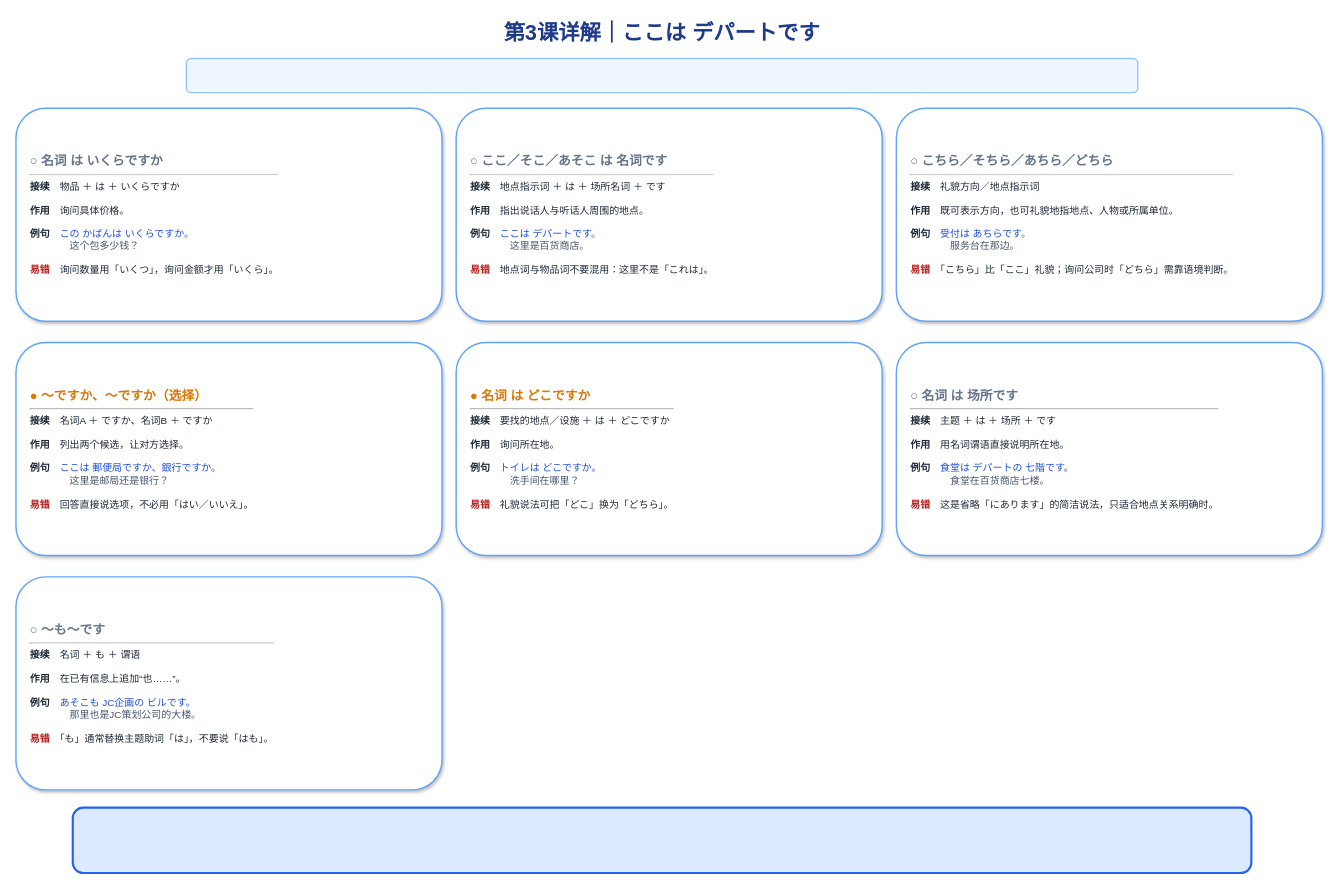
Image size: 1339x886. Some labels were removed from this diagram. Here are the shapes that lost their labels. From the top down, the centre of each, then its label:
At point 661,75: "本课目标：能询问地点、方向和价格，并用更礼貌的指示表达接待他人。".
At point 661,840: "本课结构关系 ここ／そこ／あそこ与これ／それ／あれ具有相同的こ・そ・あ距离体系。 最低掌握标准 能完成“在哪里、多少钱、A还是B”三类问答。".
